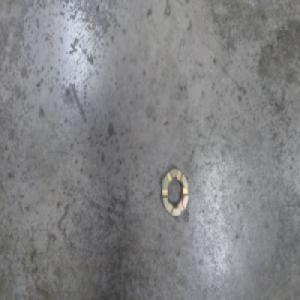Nut: (160, 164, 188, 220)
